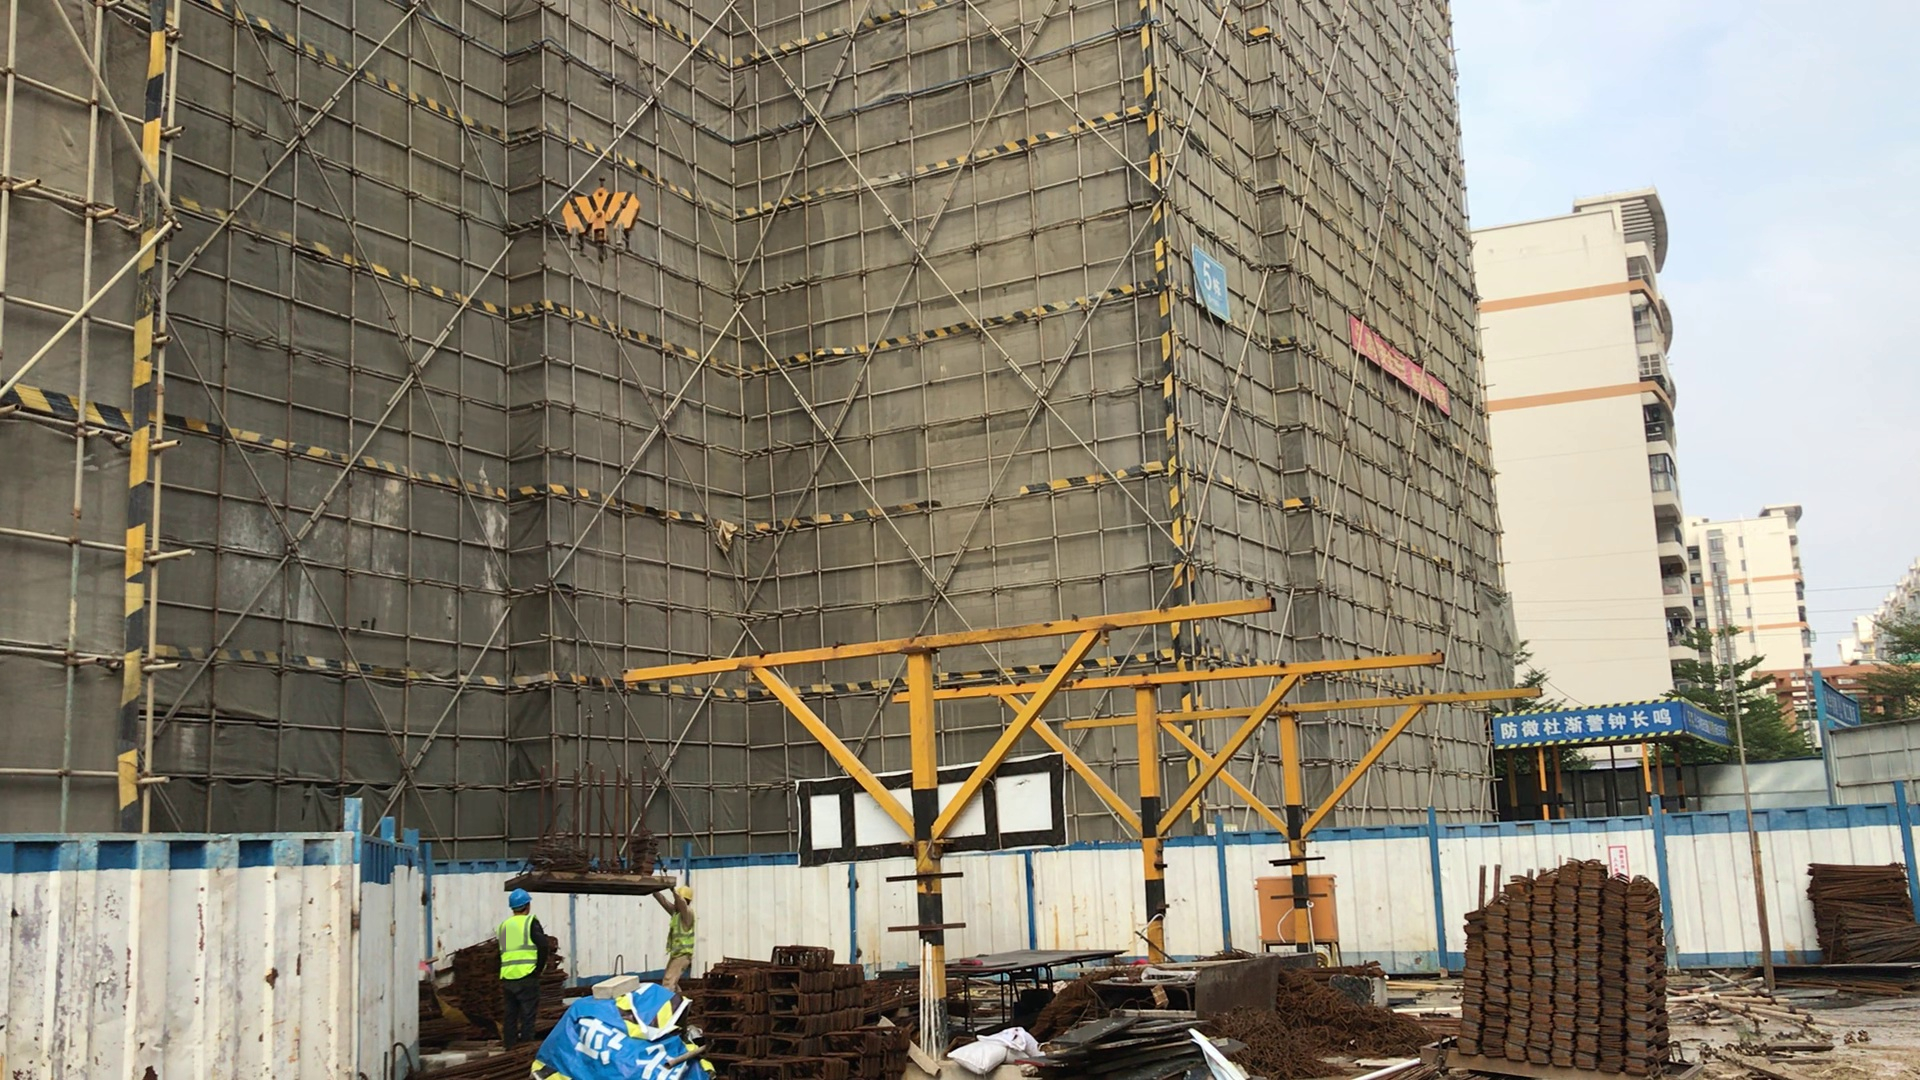ebox: (1249, 875, 1339, 946)
helmet: (505, 890, 530, 908), (672, 887, 694, 903)
hook: (561, 170, 660, 264)
person: (477, 885, 570, 1052), (640, 882, 714, 995)
slogan: (1349, 313, 1468, 416), (1496, 711, 1685, 745)
vest: (493, 918, 540, 979), (665, 912, 694, 962)
